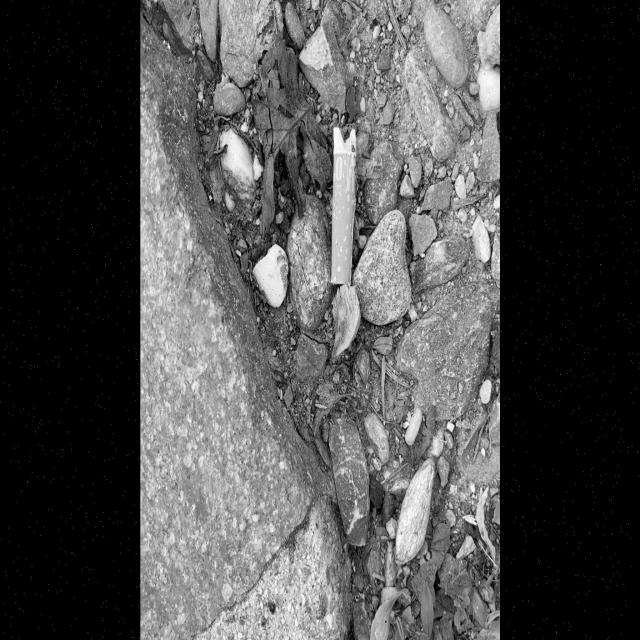other waste: (329, 123, 357, 287)
